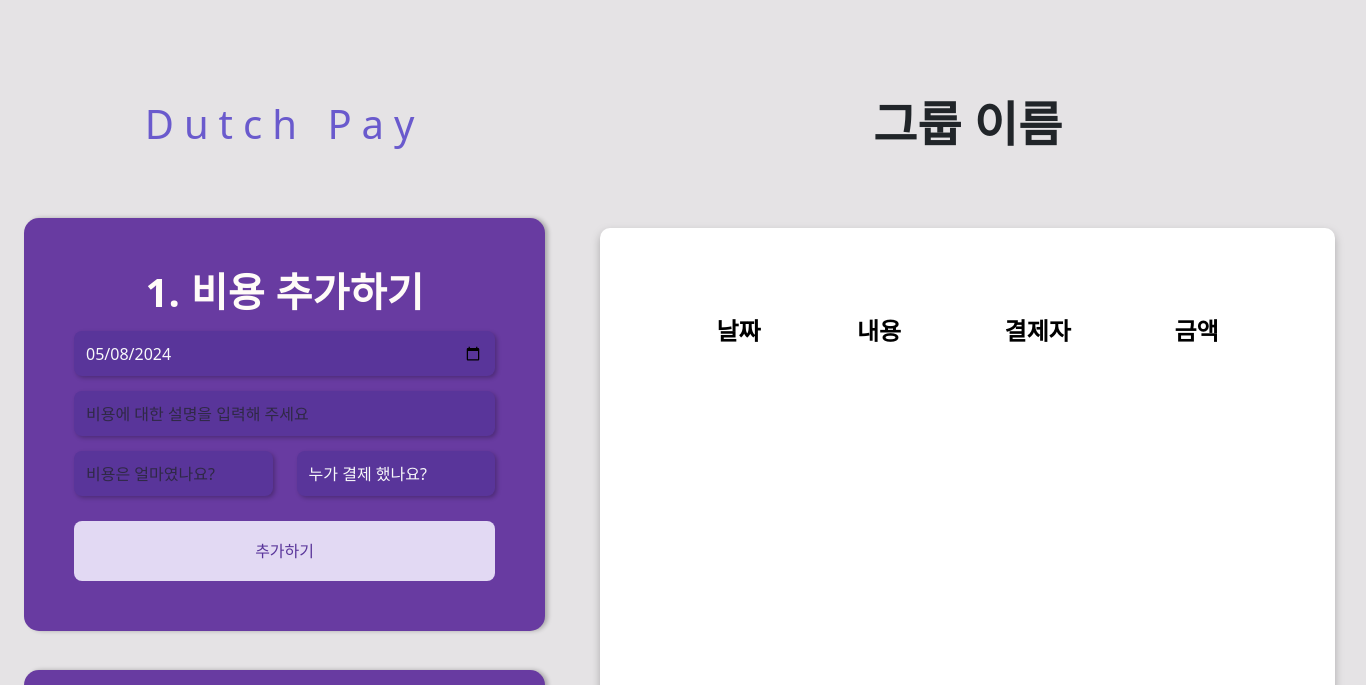
Test: 비용 정산 메인 페이지 › 새로운 비용이 입력 되었을 때, › 날짜, 내용, 결제자, 금액 데이터가 정산 리스트에 추가 된다.
This screenshot has width=1366, height=685.
Type "2024-05-02" into the date field with placeholder "결제한 날짜를 선택해 주세요" at point(285, 354), box [74,331,495,376]
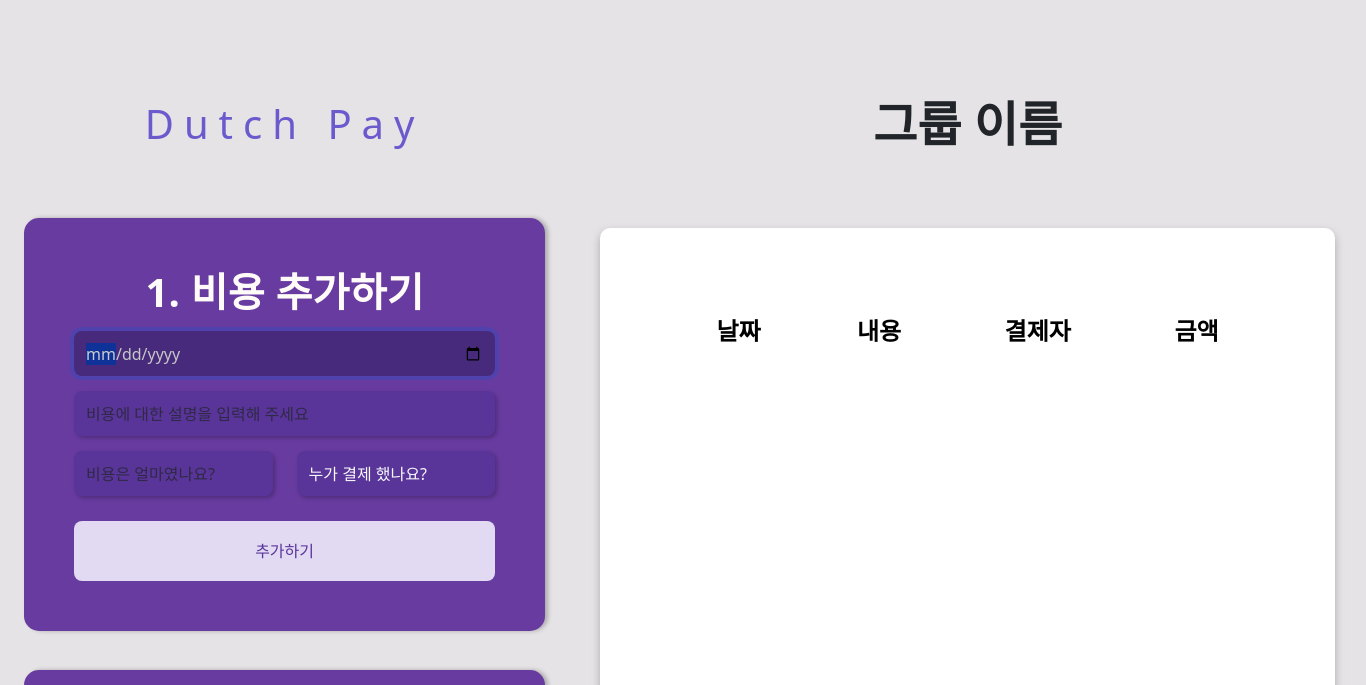
Type "장보기" into the field with placeholder "비용에 대한 설명을 입력해 주세요" at point(285, 414), box [74,391,495,436]
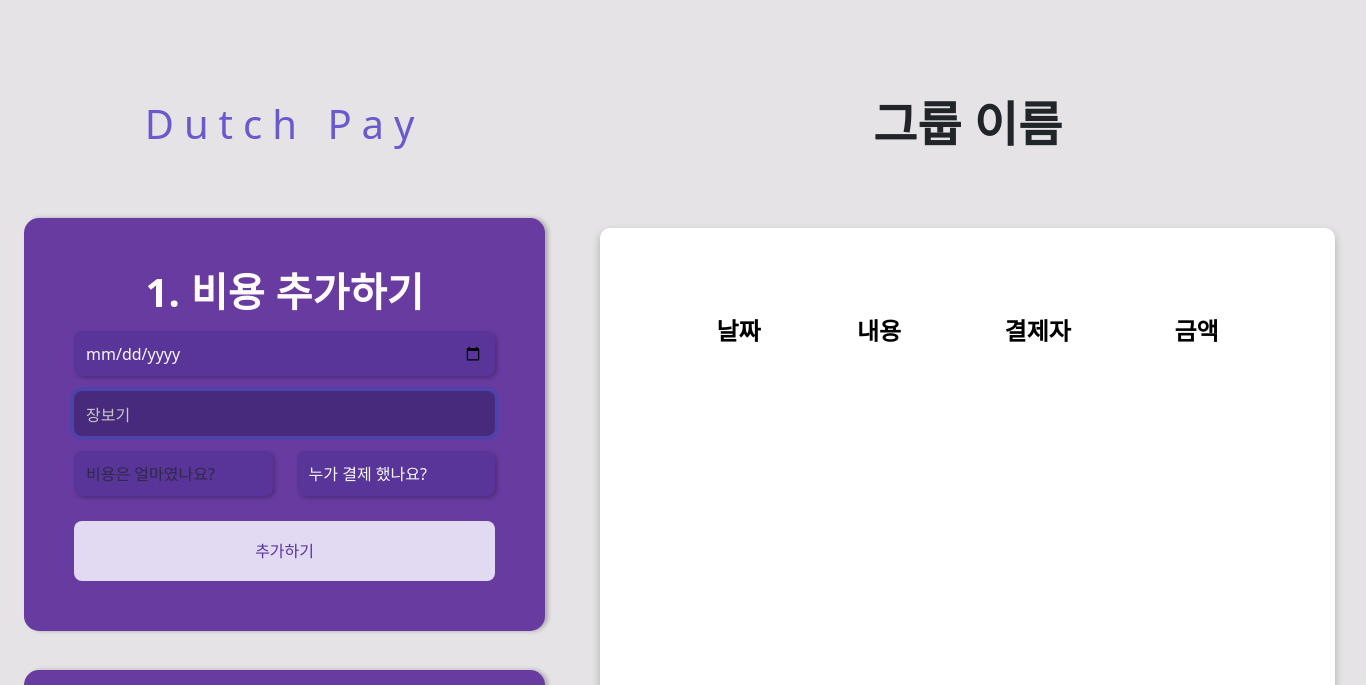
Type "30000" into the number field with placeholder "비용은 얼마였나요?" at point(173, 474), box [74,451,273,496]
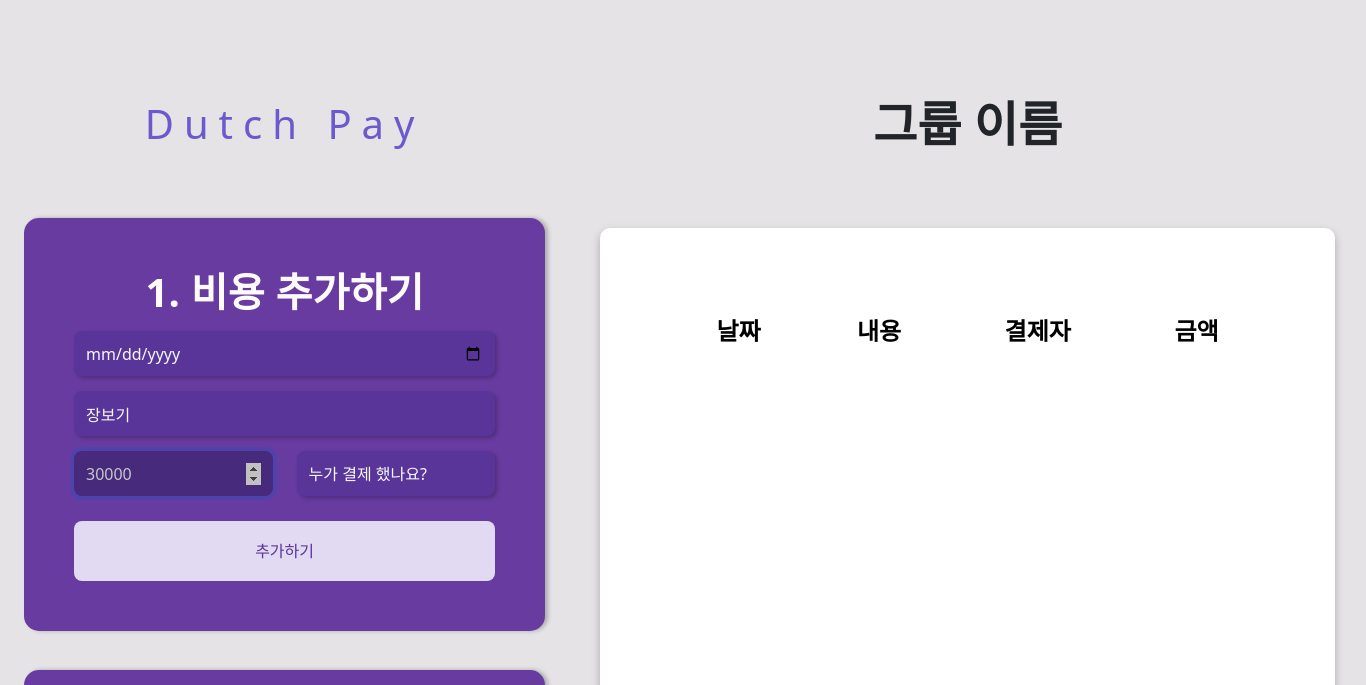
Select "영수" in the dropdown showing "누가 결제" at point(396, 474), box [297,451,495,496]
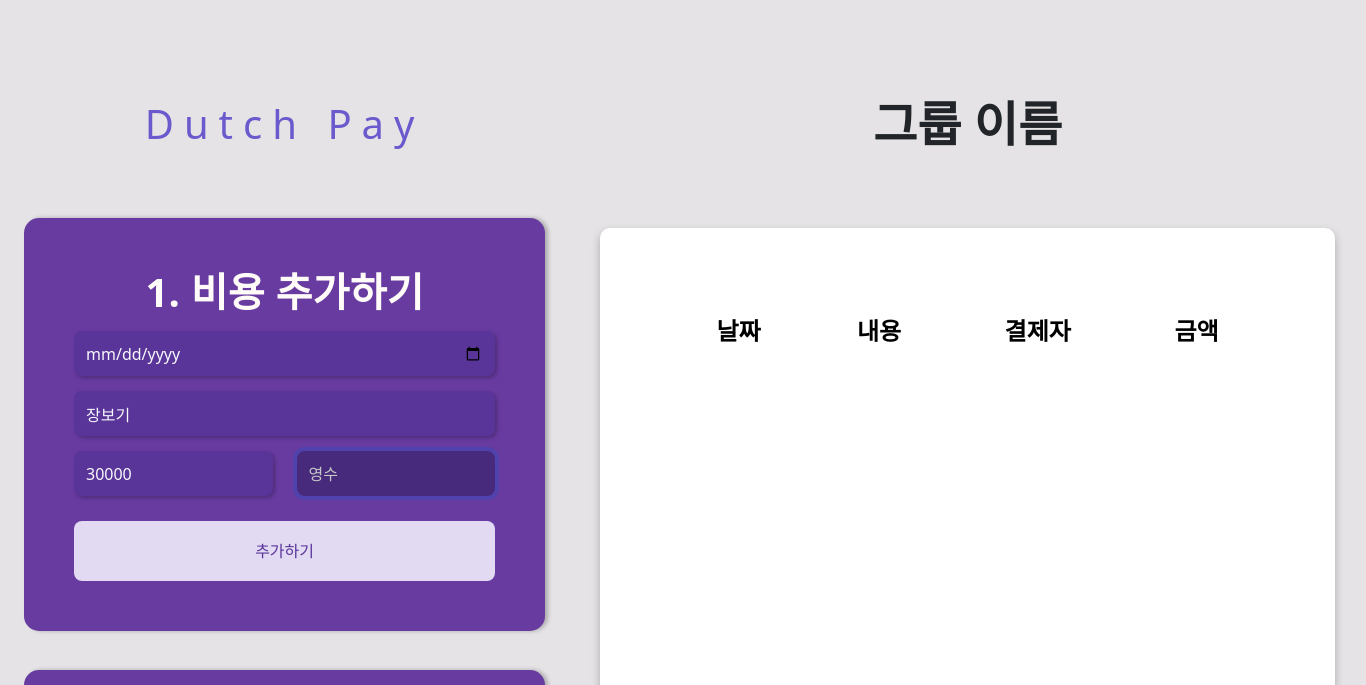
Click the button "추가하기" at point(285, 551), box [74,521,495,581]
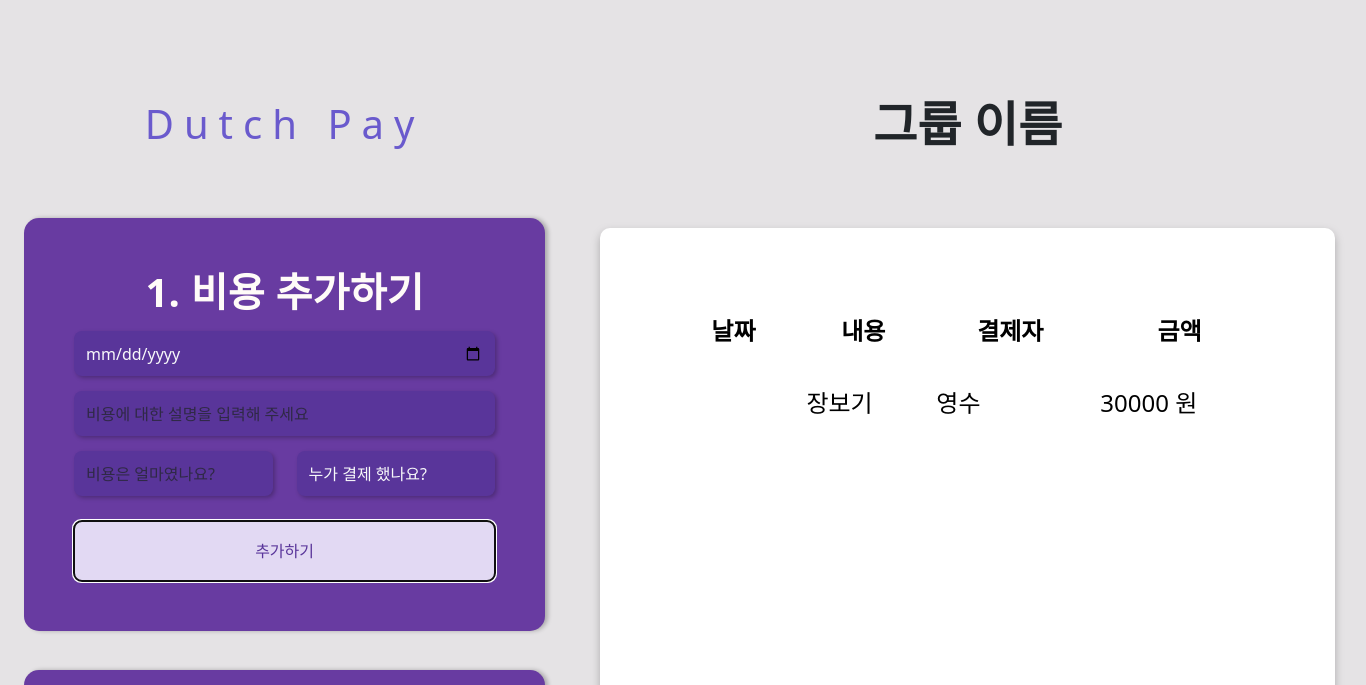
Now the text "영수" is shown, box [928,365,1092,440]
Now the text "장보기" is shown, box [798,365,928,440]
Now the text "30000 원" is shown, box [1092,365,1267,440]
